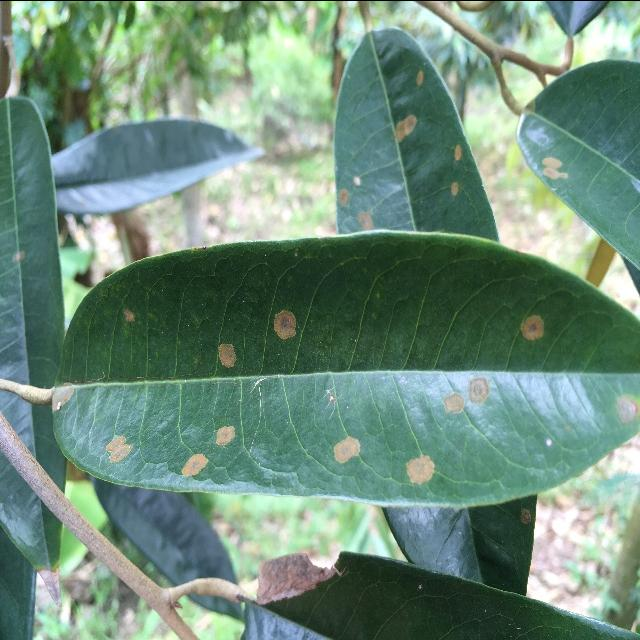Algal Leaf Spot: (39, 223, 640, 519)
